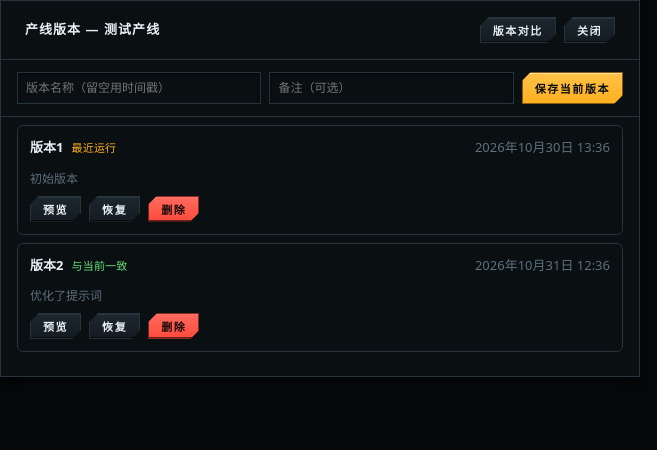
Test: VersionPanel › 版本对比 › 点击版本对比进入选择模式，每个版本显示 A/B 按钮
Click the button "版本对比" at point(518, 30), box [480,17,556,43]
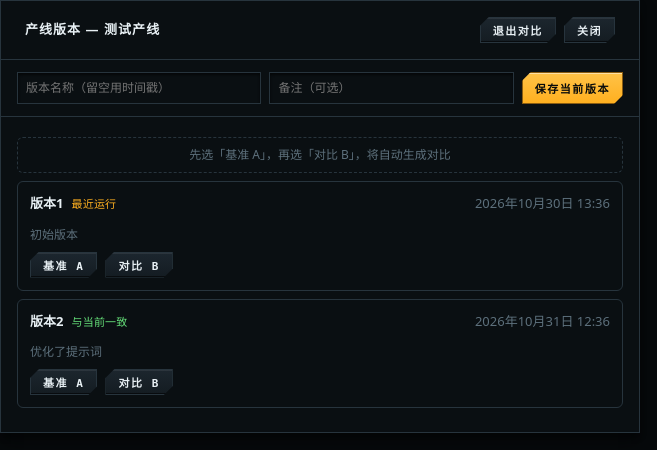
Expected: the number of buttons "基准 A" is 2, [30,252,97,278]; [30,369,97,395]
Expected: the number of buttons "对比 B" is 2, [105,252,173,278]; [105,369,173,395]
Expected: no buttons "预览" are shown
